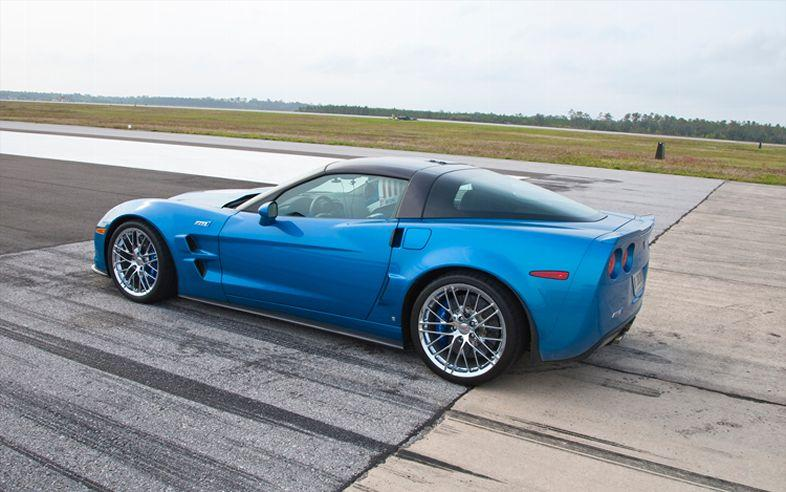small: (90, 153, 657, 387)
